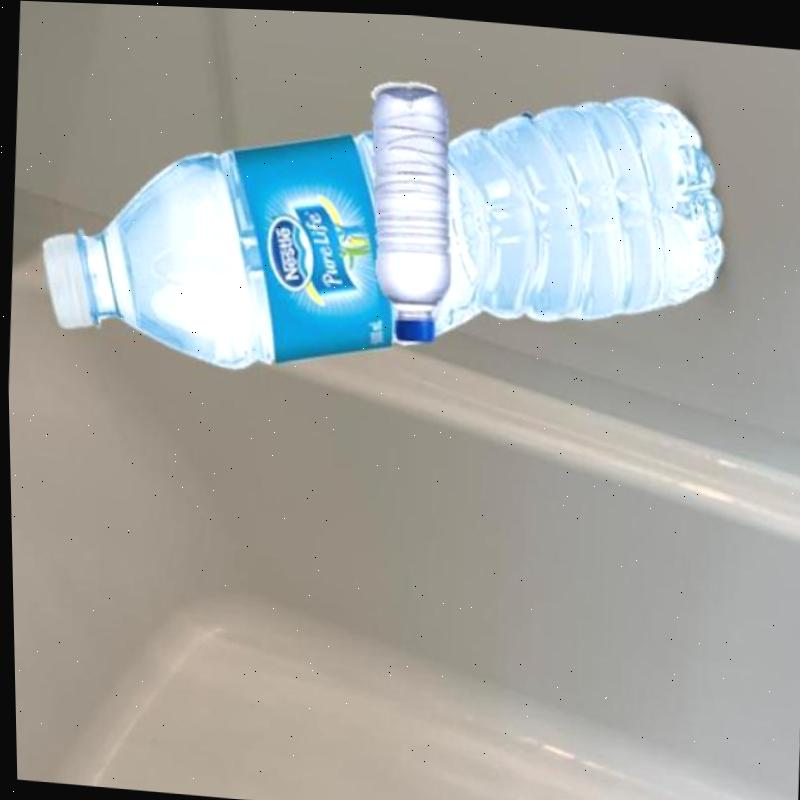botella: (32, 44, 732, 411), (358, 79, 464, 346)
